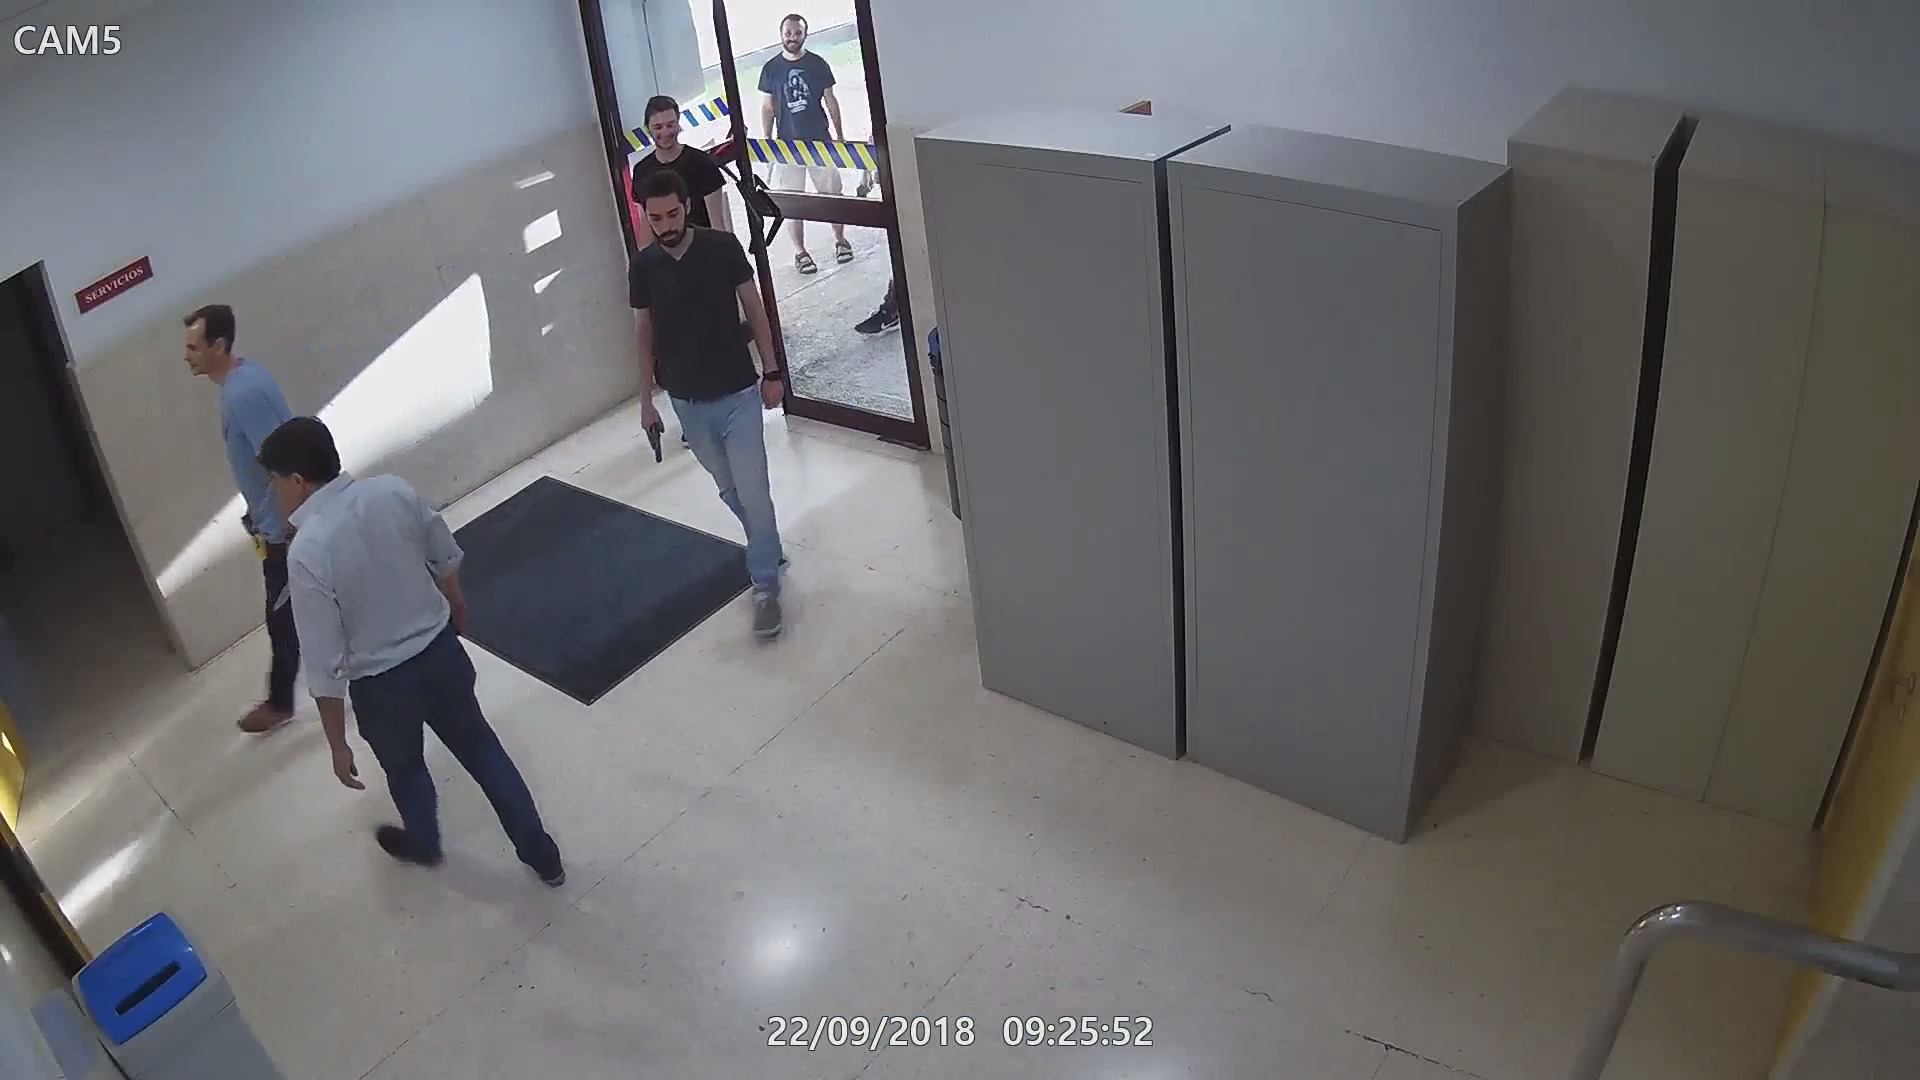Handgun: (636, 400, 669, 467), (847, 169, 880, 204), (233, 504, 260, 535), (761, 160, 777, 187)
Knife: (270, 578, 295, 616)
